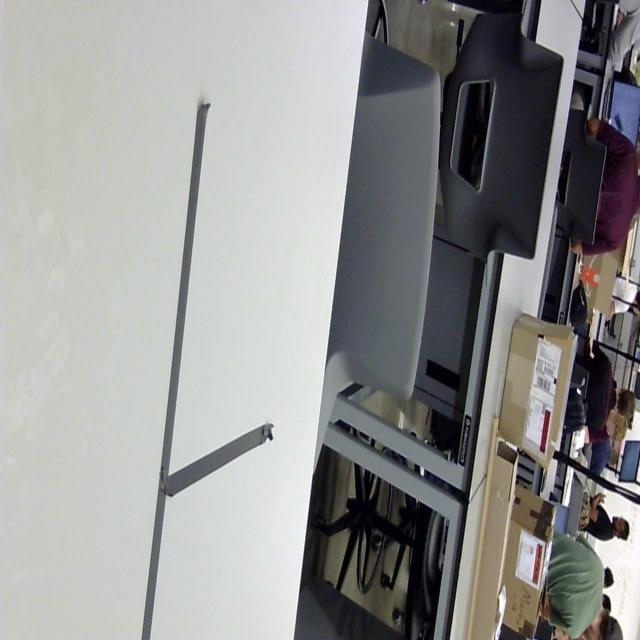tape: (122, 85, 288, 640)
